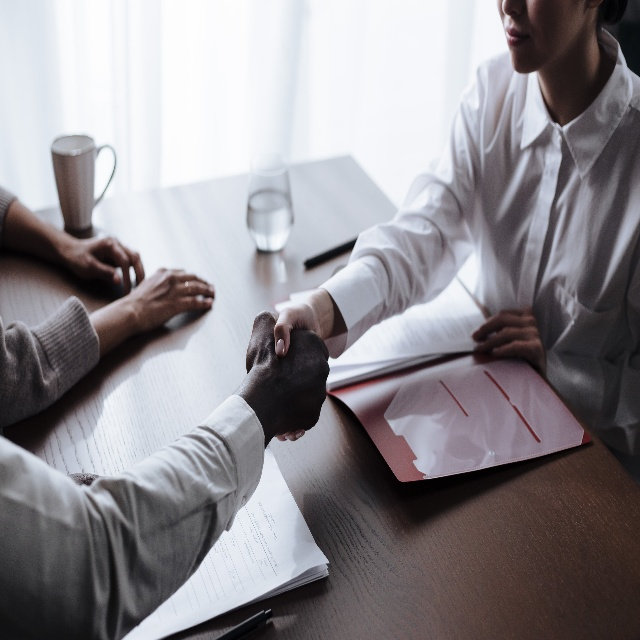Sin_guantes: (247, 311, 331, 421), (269, 302, 323, 444), (134, 263, 217, 321), (68, 235, 143, 298), (472, 302, 539, 360)
